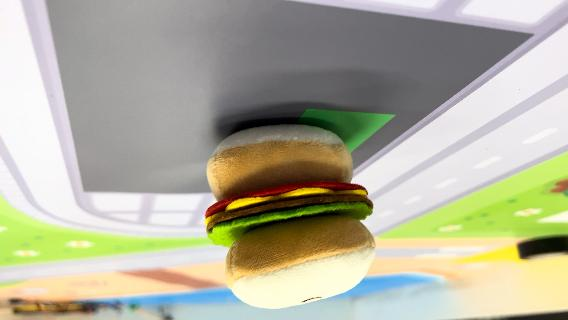sandwich: (201, 120, 381, 310)
